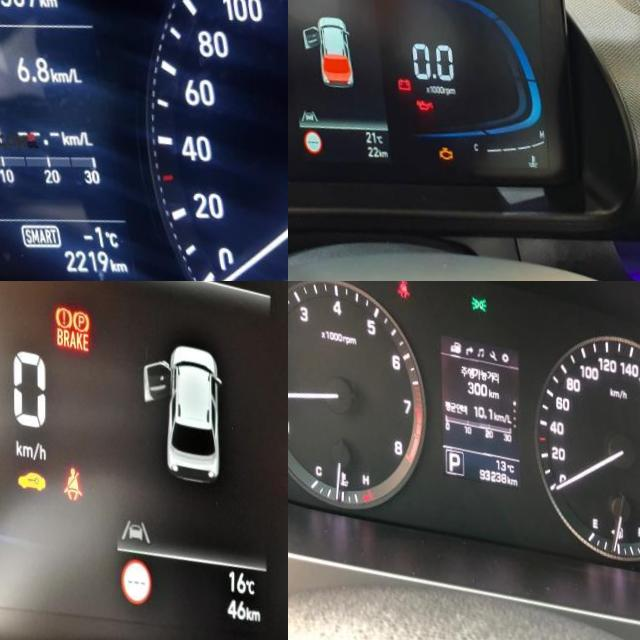LaneCenteringOff: (299, 95, 317, 112)
SideLamp: (469, 281, 486, 299)
